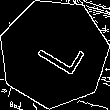L_NW: (24, 27, 84, 80)
